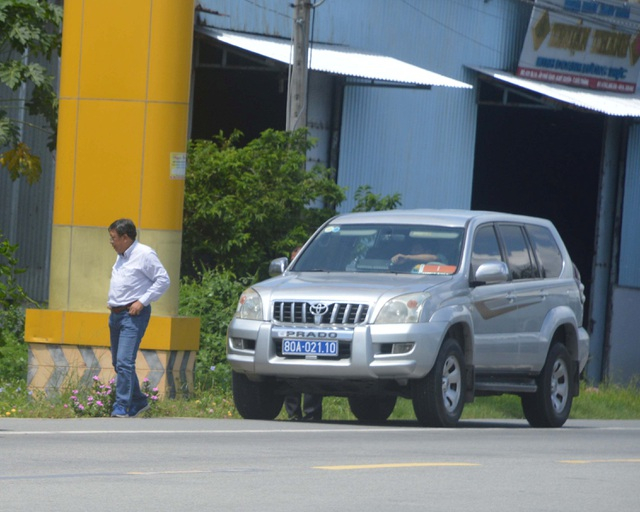plate: (280, 335, 340, 357)
